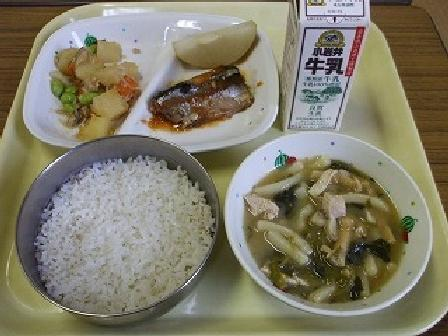Apple: (164, 10, 270, 70)
Fish: (150, 65, 256, 136)
Milk: (269, 0, 377, 135)
Rice: (20, 139, 218, 321)
vegetable based cooked food: (45, 40, 141, 124)
vegetable soup: (238, 134, 426, 307)
